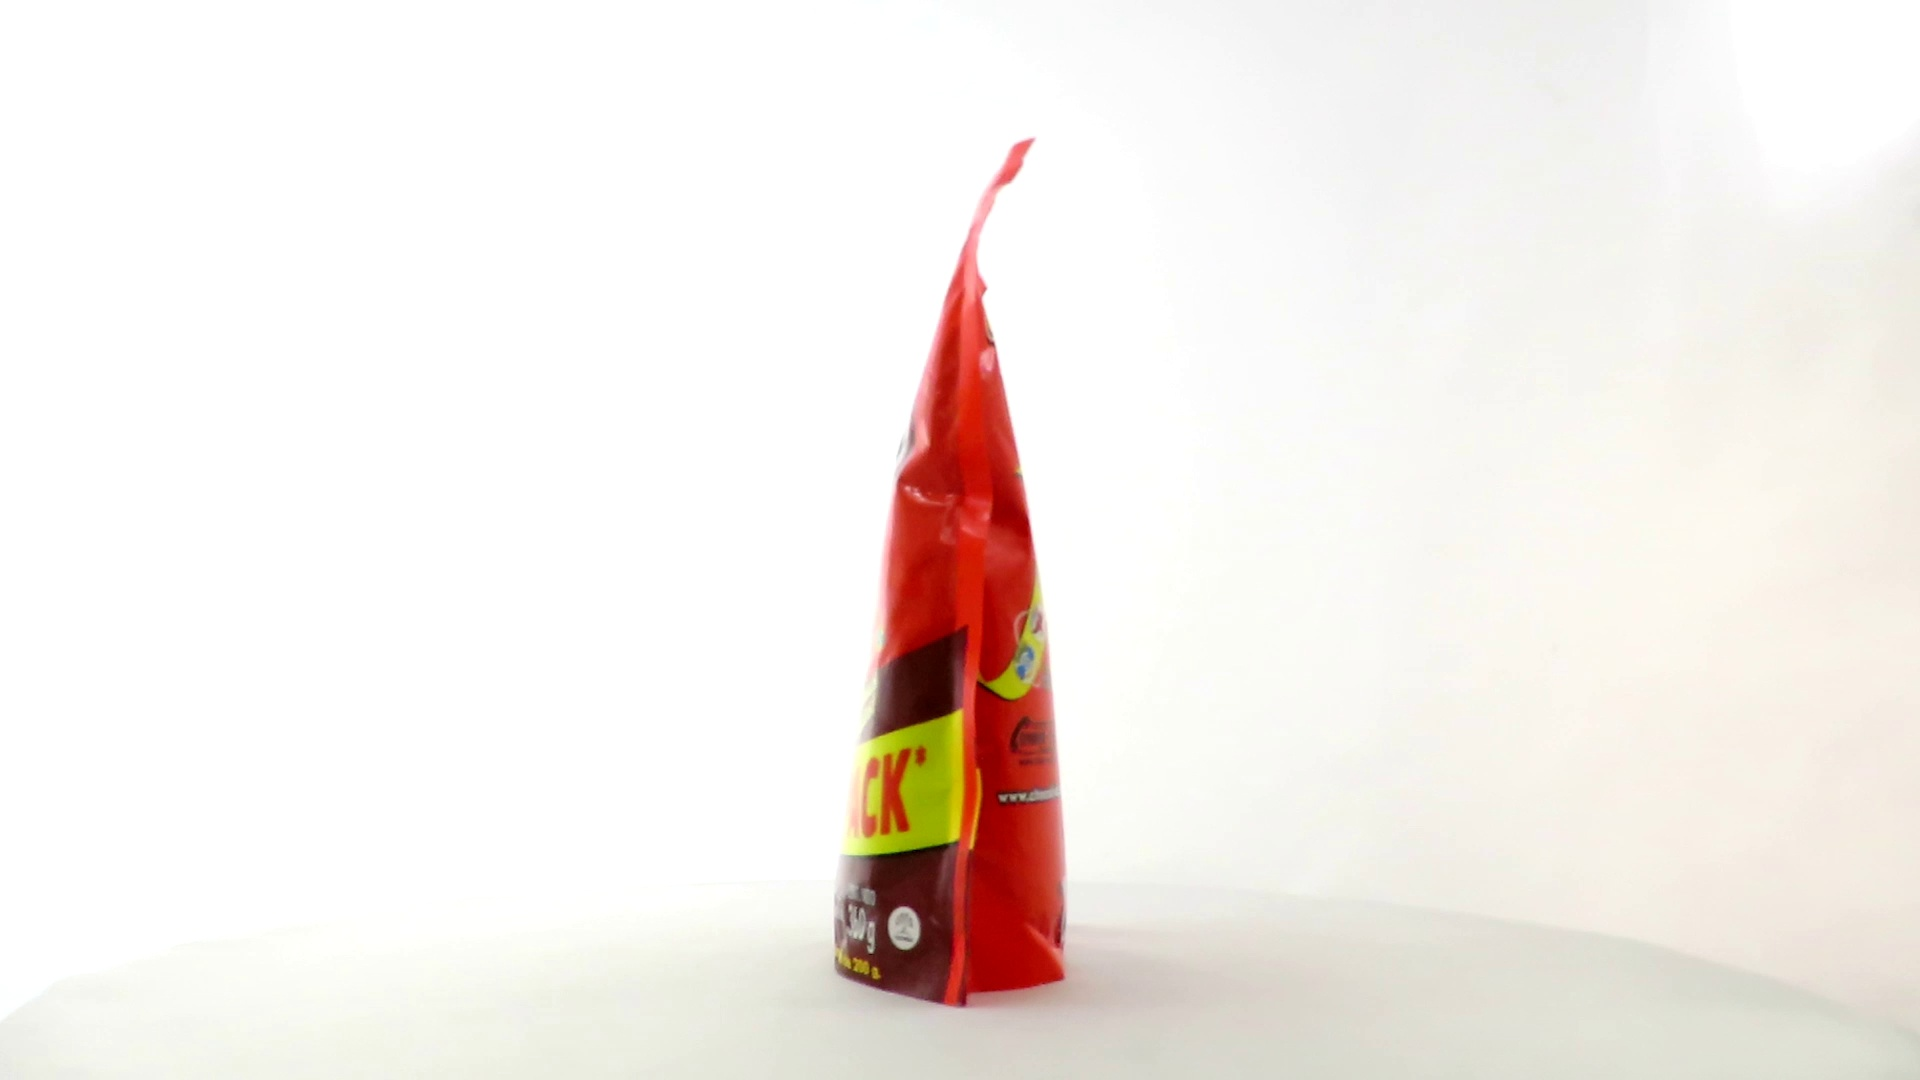COL0170103DYP36000: (684, 133, 1073, 1015)
